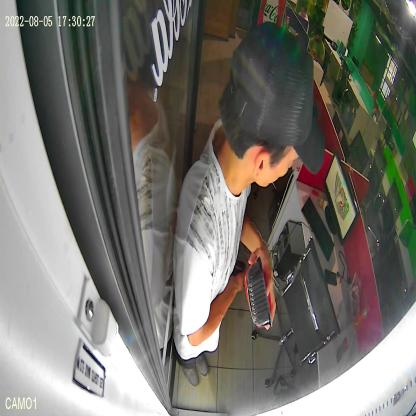red: (244, 256, 272, 328)
